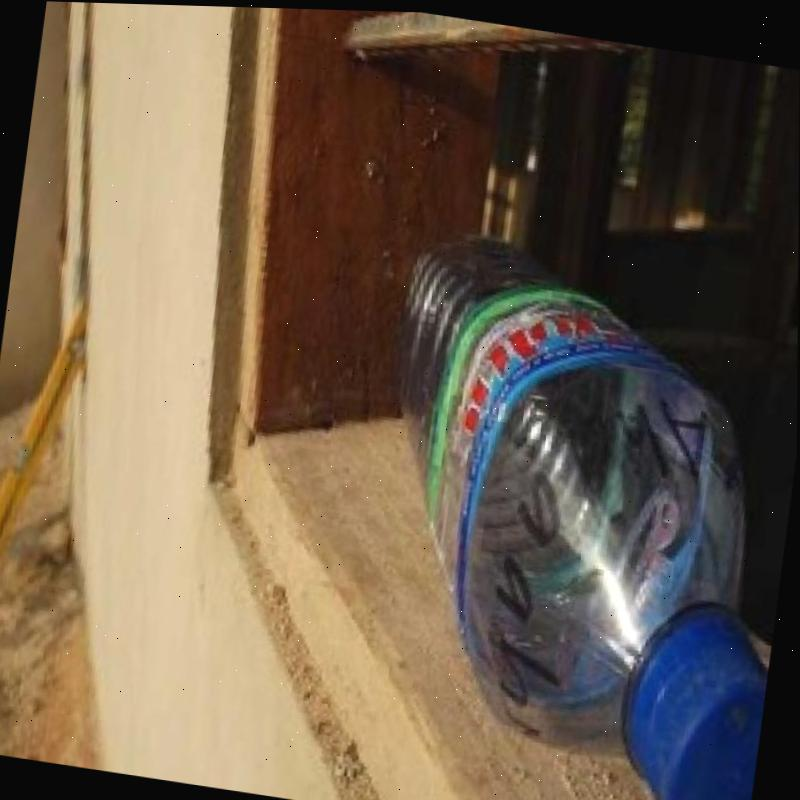botella: (341, 219, 799, 800)
